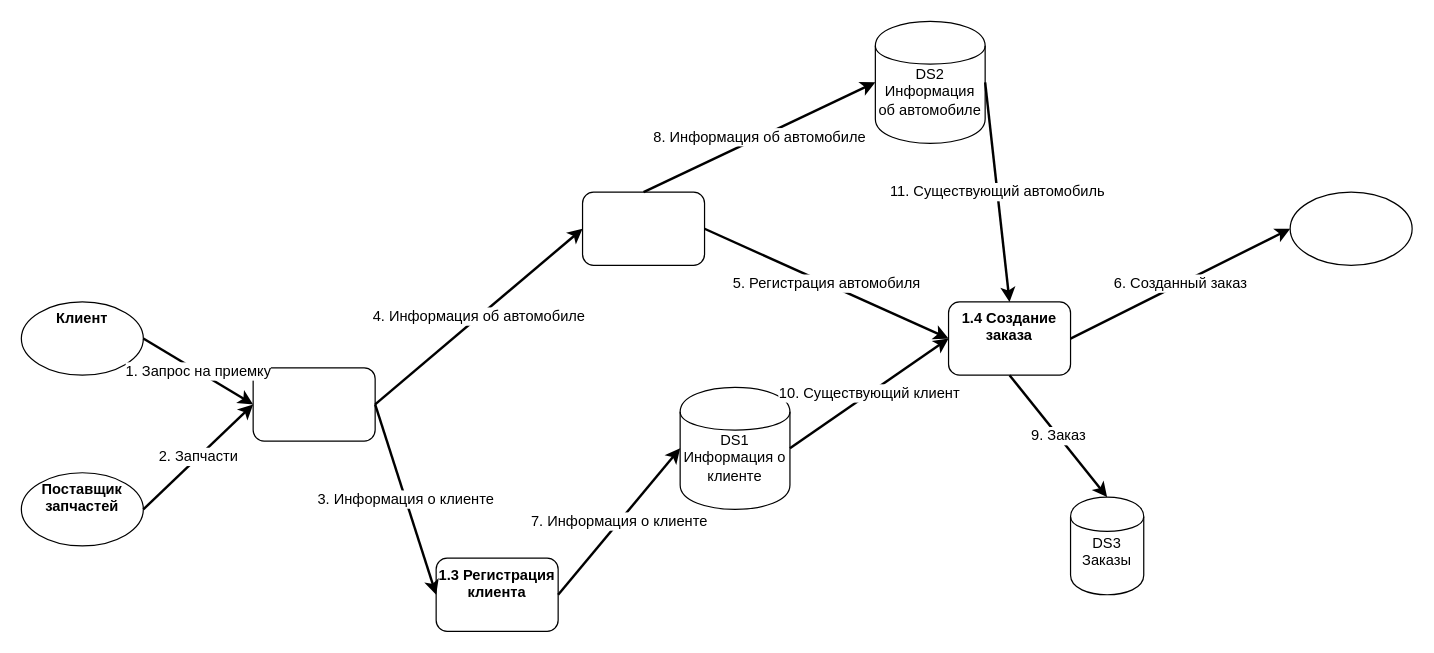
The diagram is 1434 pixels wide and 653 high, and some of its shapes have lost their labels. The shapes that lost their labels are listed below. From the top down, each one's centre as x and y in pixels, then its label:
At (643,228): "1.2 Регистрация автомобиля".
At (1350,228): "Д ругие системы".
At (313,404): "1.1 Приемка".
